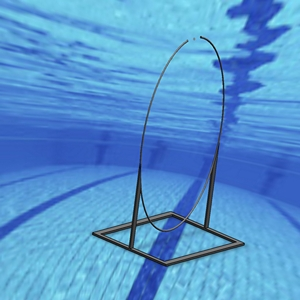circle: (93, 35, 248, 267)
